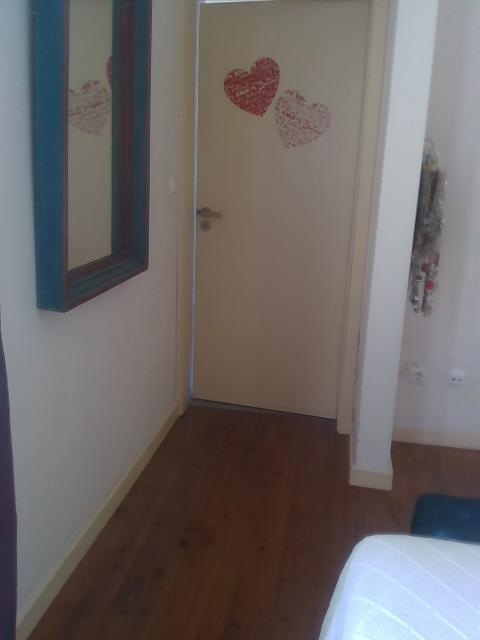closed_door: (182, 2, 383, 435)
